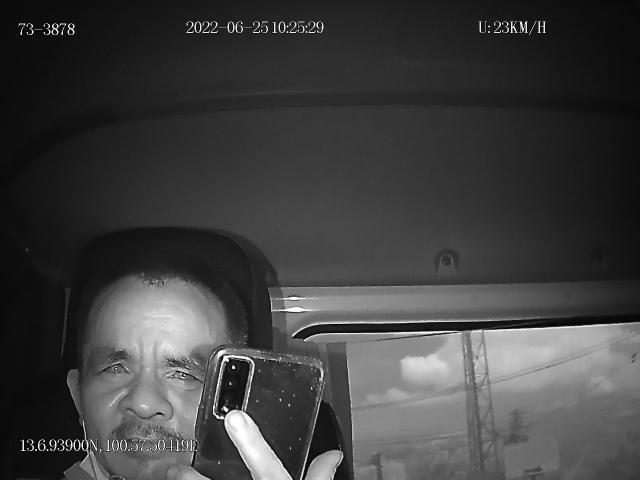PhoneUse: (190, 346, 330, 480)
SafeDriving: (158, 356, 205, 394), (90, 350, 138, 386)
